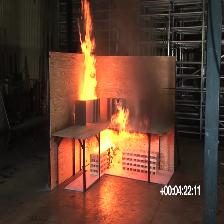fire: (100, 101, 149, 164), (77, 0, 98, 100)
